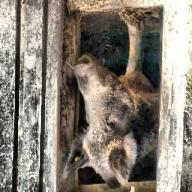boar: (62, 11, 160, 190)
